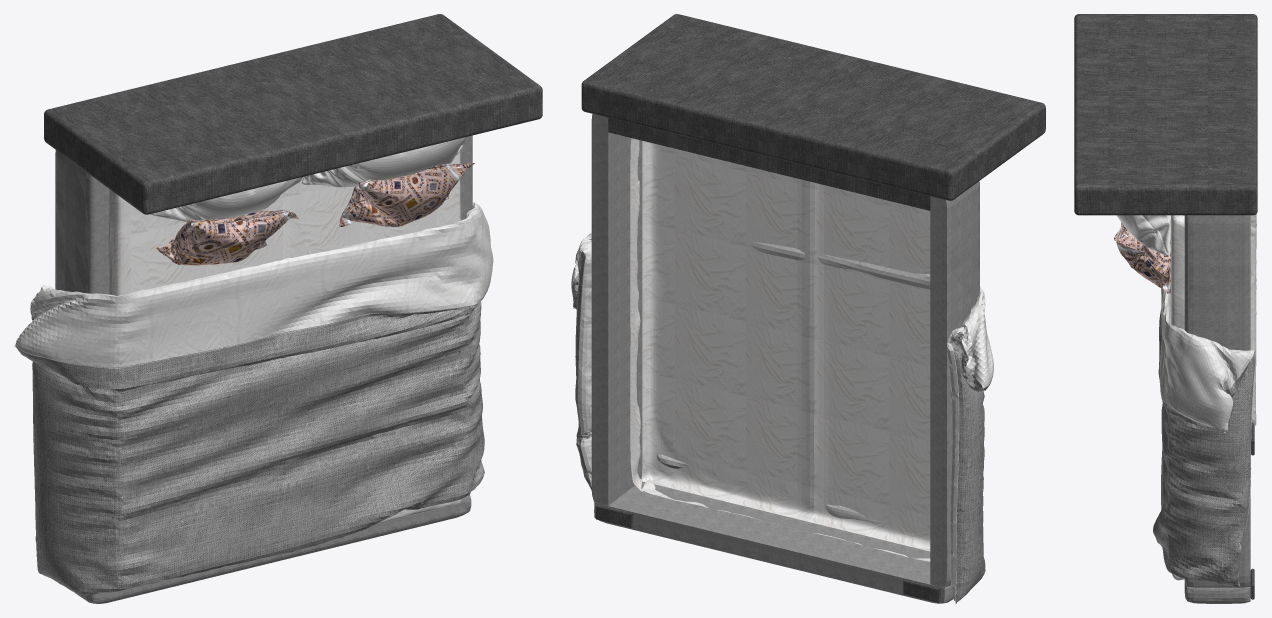
Rendered from bed.glb.
3 renders of one model, left to right at view 1: azimuth 30°, elevation 25°; view 2: azimuth 150°, elevation 25°; view 3: azimuth 270°, elevation 25°, orthographic. The views are drawn at different scales.
Visible parts, largest first — view 1: Modern Bed N101224; view 2: Modern Bed N101224; view 3: Modern Bed N101224.
Part boxes in pixels (x1,y1,x2,y2): Modern Bed N101224: (14,14,542,603); Modern Bed N101224: (571,14,1045,603); Modern Bed N101224: (1074,14,1257,603).
Size of the model in its own units: 0.2385 by 0.2363 by 0.0924.
5 materials, 5 textured.
